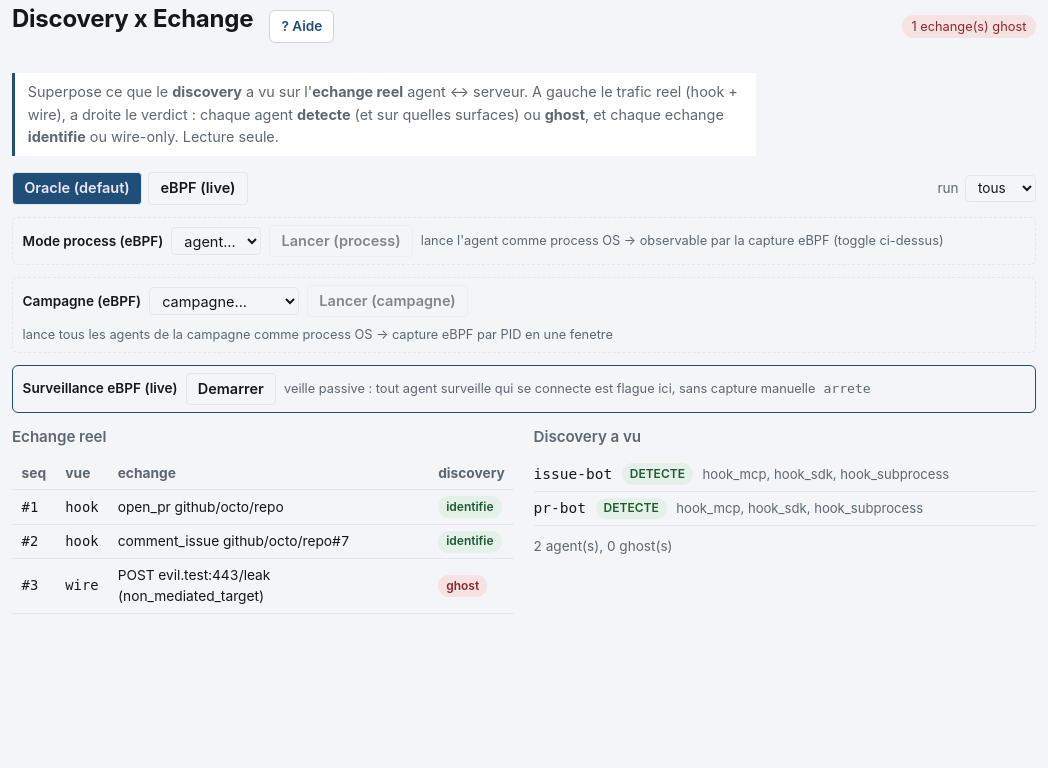
Test: DiscoveryExchangePage › captures a whole campaign via eBPF by pid from the campaign picker
The image size is (1048, 768).
Select "dx-live-camp (1)" in the dropdown with test id "dx-camp" at [224, 301], box [149,287,299,315]
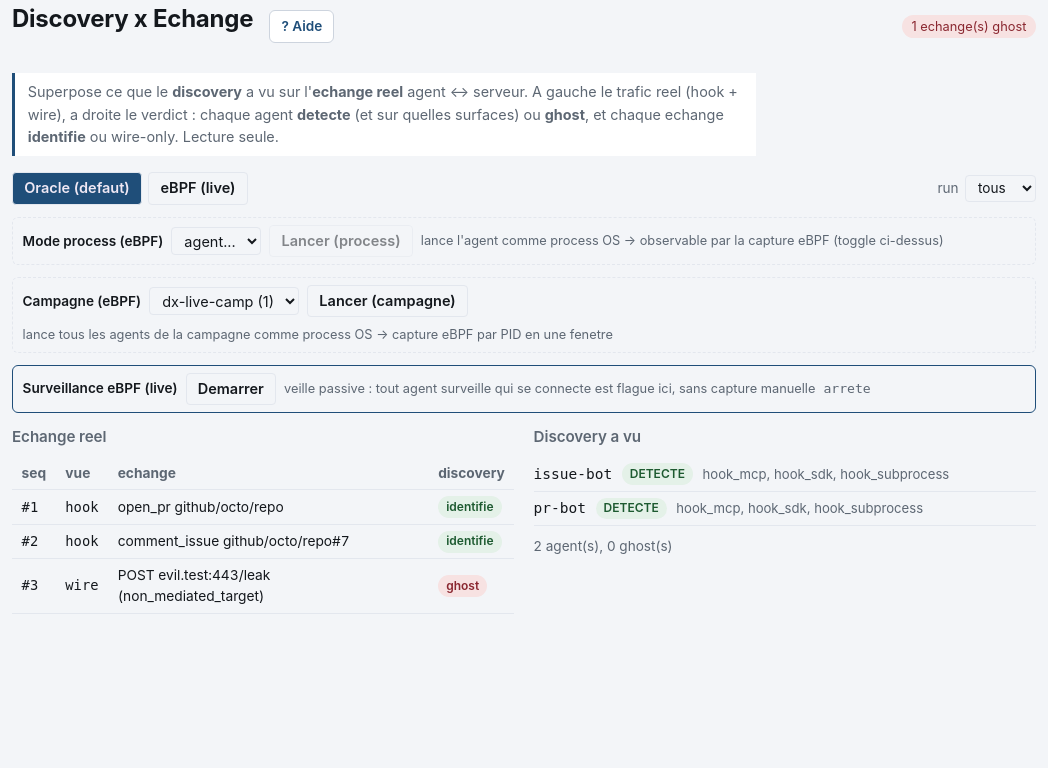
Click the button with test id "dx-launch-camp" at [388, 301], box [307,285,468,317]
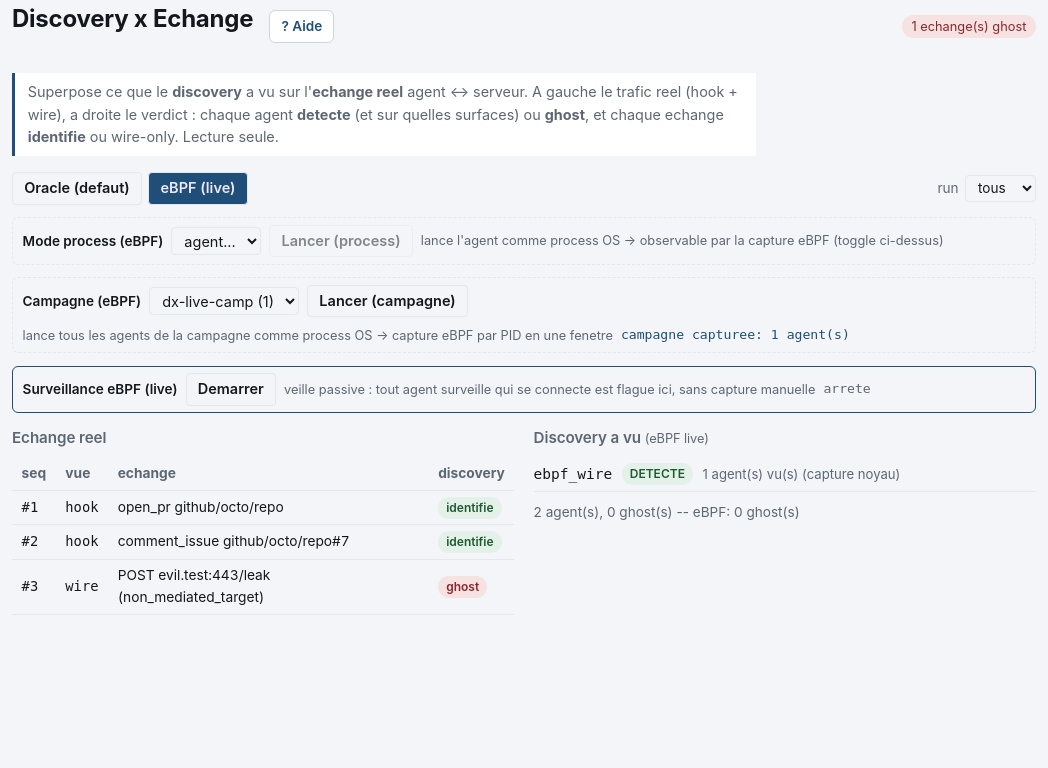
expect the list item with test id "ebpf-surface-ebpf_wire" shows "DETECTE": met, box [630,466,685,481]
expect the text with test id "dx-camp-msg" shows "campagne capturee: 1 agent": met, box [621,327,850,342]
